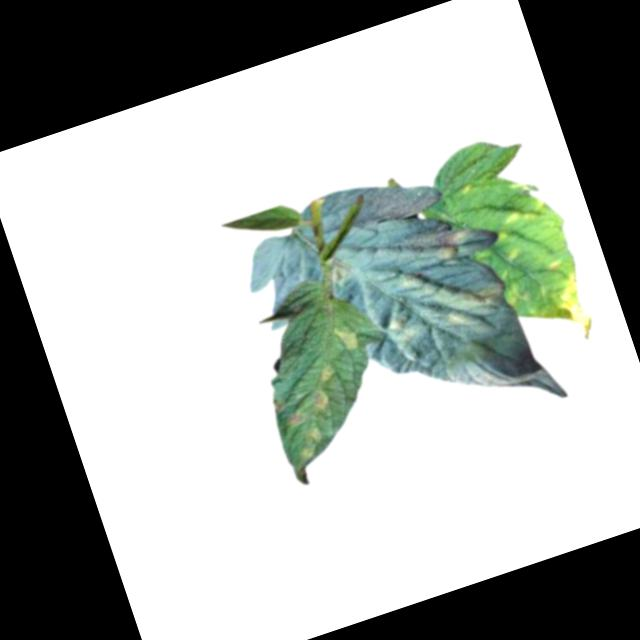Leaf_Mold: (399, 247, 514, 343), (528, 267, 603, 353), (400, 215, 477, 273), (491, 194, 558, 245), (304, 361, 349, 416), (382, 309, 420, 353), (330, 319, 367, 359), (323, 252, 361, 287)
